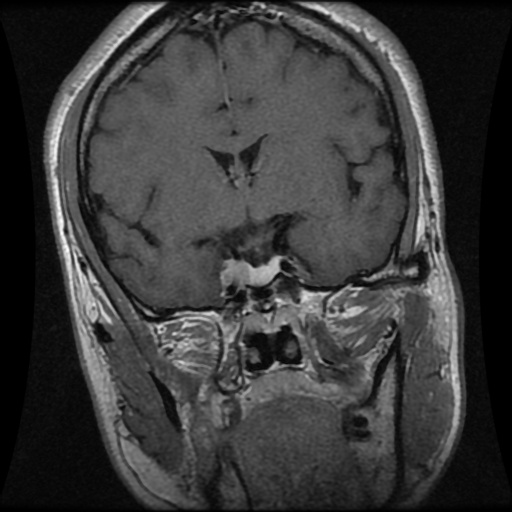pituitary: (218, 254, 280, 290)
